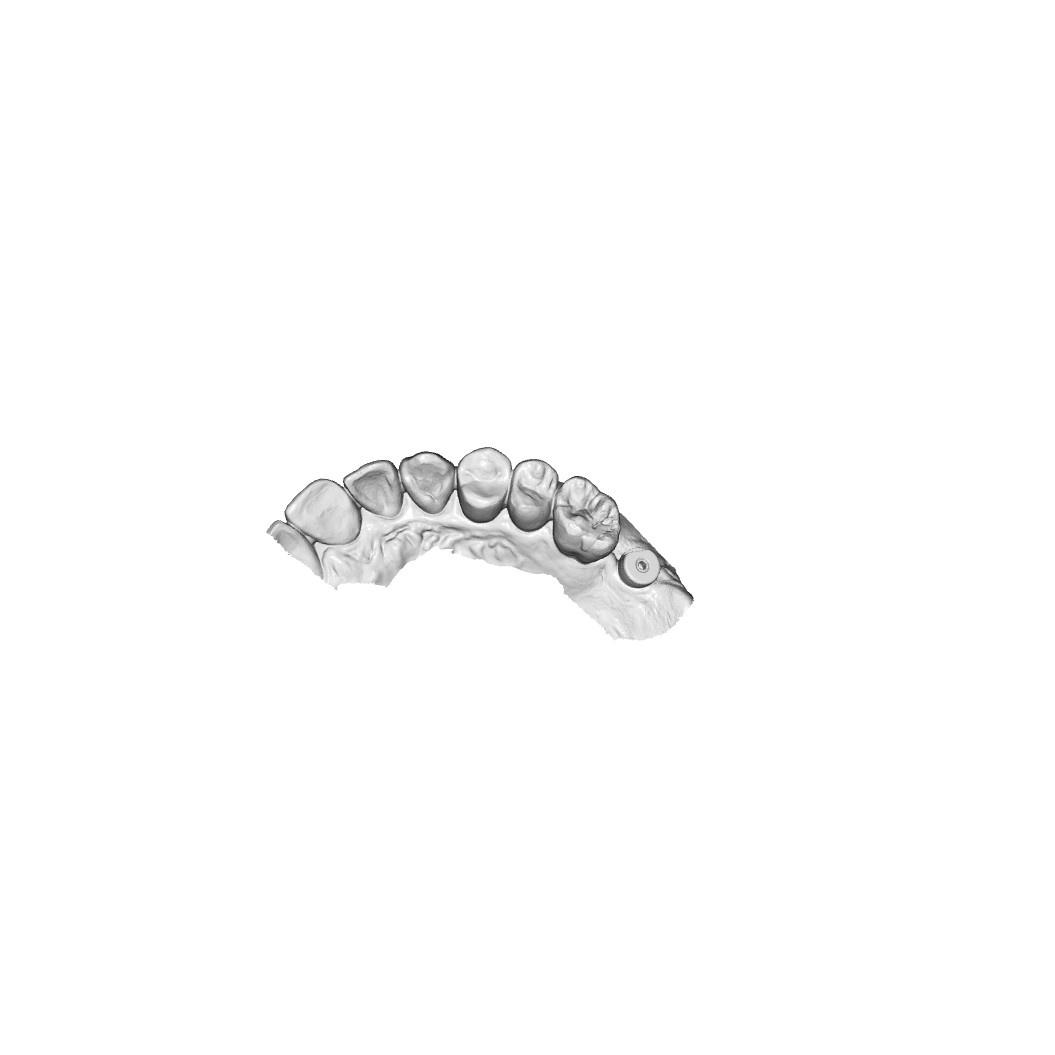canine: (400, 448, 459, 518)
implant: (617, 543, 664, 591)
incisor: (280, 476, 364, 547), (340, 456, 406, 519)
molar: (551, 475, 623, 564)
premolar: (456, 445, 512, 525), (504, 457, 557, 532)
